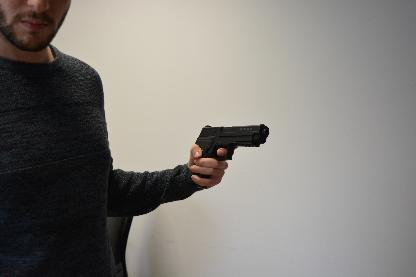pistol: (185, 122, 269, 188)
